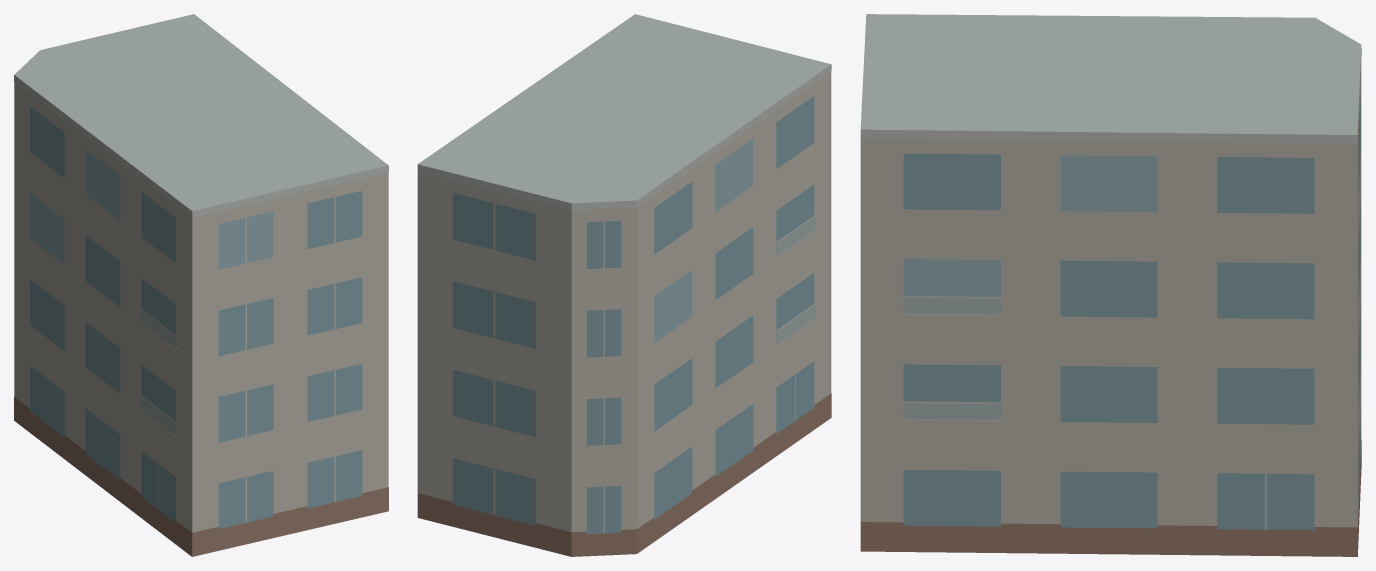
Rendered from survey-upis-32841479.glb.
The picture shows the model from 3 angles, left to right: view 1: azimuth 30°, elevation 25°; view 2: azimuth 150°, elevation 25°; view 3: azimuth 270°, elevation 25°; orthographic projection. The views are drawn at different scales.
Visible parts, largest first — view 1: survey-upis-32841479.tmp; view 2: survey-upis-32841479.tmp; view 3: survey-upis-32841479.tmp.
Part boxes in pixels (<box>): survey-upis-32841479.tmp: <box>14,14,388,556</box>; survey-upis-32841479.tmp: <box>417,14,831,556</box>; survey-upis-32841479.tmp: <box>860,14,1361,556</box>.
Bounding box in the file's own units: 7.53 × 12.2 × 13.14.
